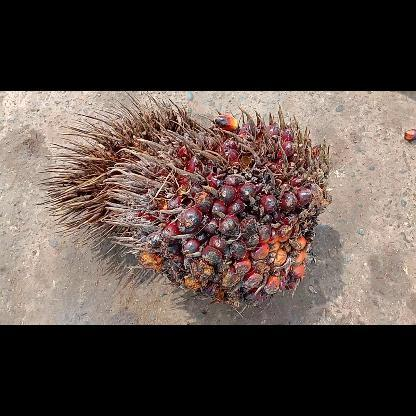Janjang kosong: (36, 91, 200, 255)
TBS masak: (104, 101, 330, 307)
